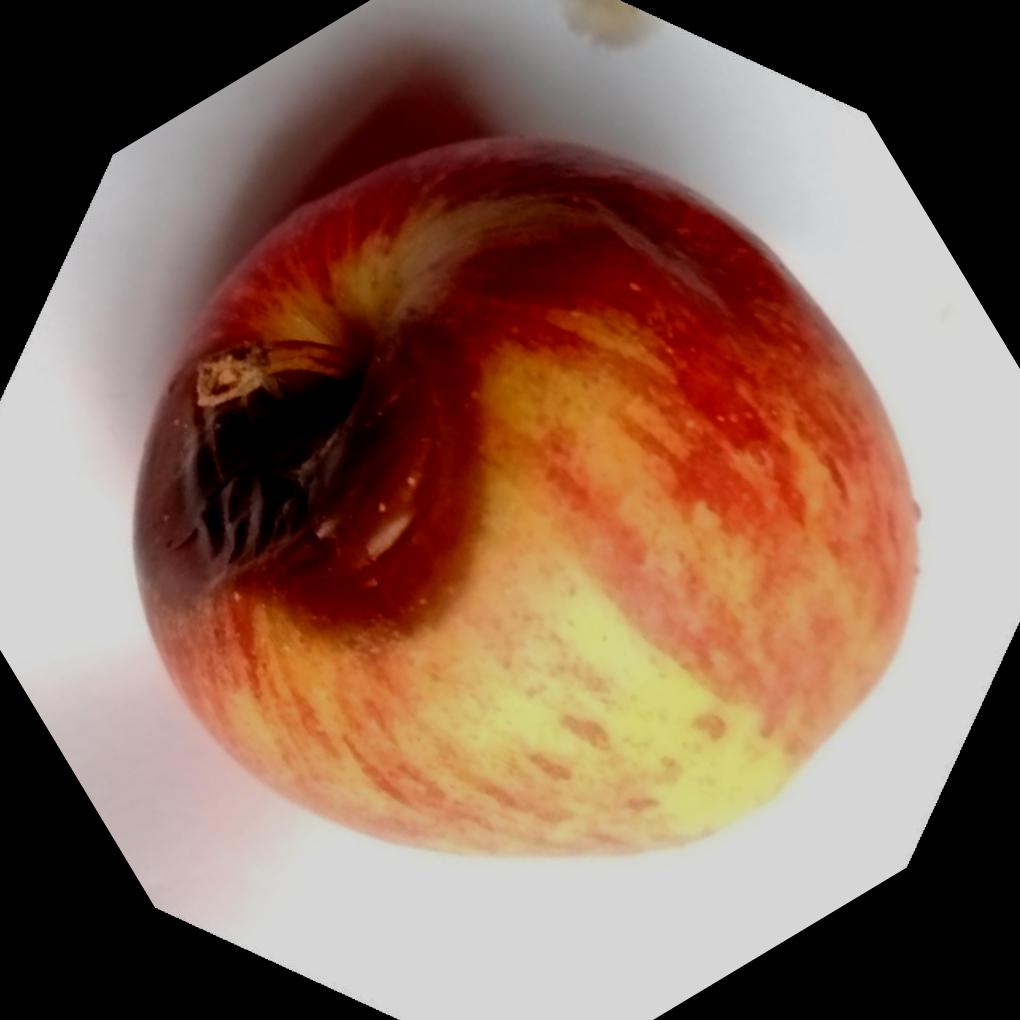FreshOrange: (126, 134, 919, 862)
